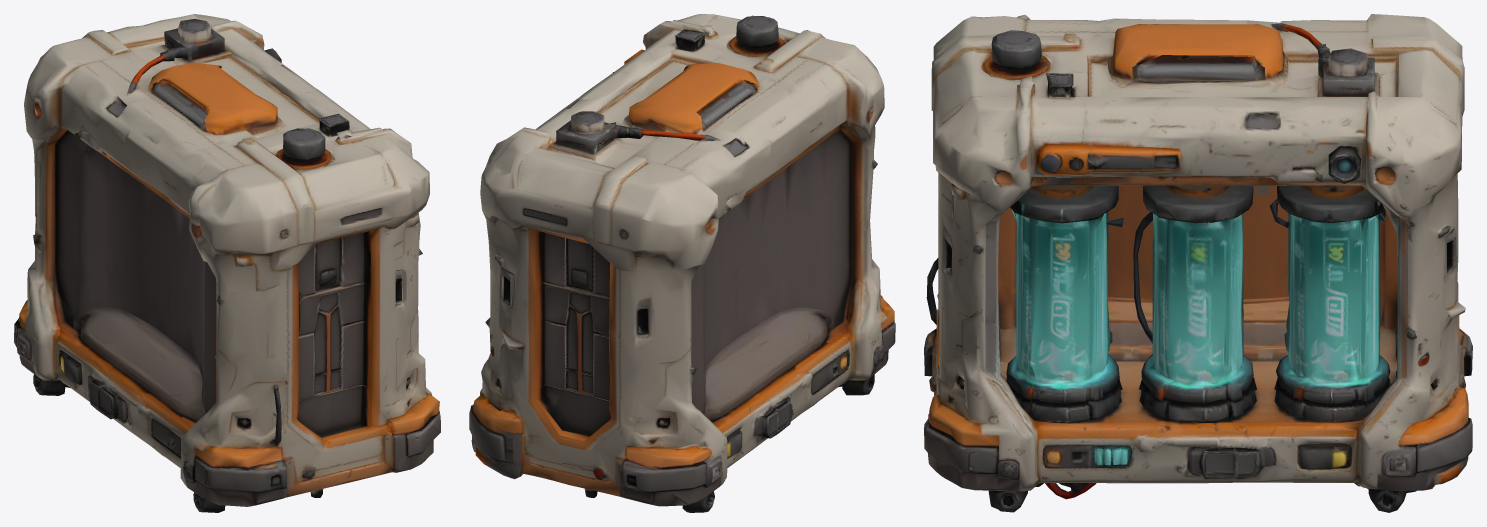
The model's file is accu.glb.
The picture shows the model from 3 angles, left to right: view 1: azimuth 30°, elevation 25°; view 2: azimuth 150°, elevation 25°; view 3: azimuth 270°, elevation 25°; orthographic projection. The views are drawn at different scales.
Parts seen in each view (by area): view 1: tripo_node_2be8ee06-8c55-47d3-b3a4-613fef2e9470; view 2: tripo_node_2be8ee06-8c55-47d3-b3a4-613fef2e9470; view 3: tripo_node_2be8ee06-8c55-47d3-b3a4-613fef2e9470.
Part boxes in pixels (<box>): tripo_node_2be8ee06-8c55-47d3-b3a4-613fef2e9470: <box>14,14,440,512</box>; tripo_node_2be8ee06-8c55-47d3-b3a4-613fef2e9470: <box>469,14,895,512</box>; tripo_node_2be8ee06-8c55-47d3-b3a4-613fef2e9470: <box>924,14,1472,512</box>.
Bounding box in the file's own units: 0.6067 × 0.8393 × 1.
1 material, 1 textured.
